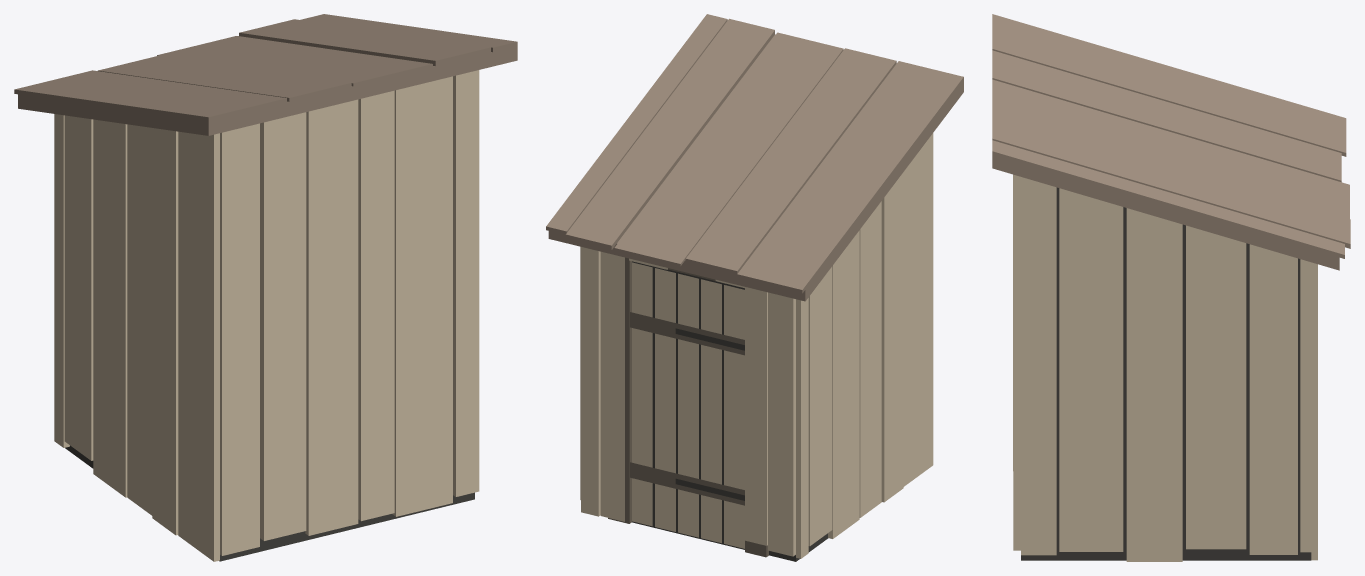
The model's file is recon_1835_blk_south_water_franklin_a3_07__inferred_1835.glb.
3 views of the same model, side by side, from view 1: azimuth 30°, elevation 25°; view 2: azimuth 150°, elevation 25°; view 3: azimuth 270°, elevation 25° (orthographic). The views are drawn at different scales.
Parts seen in each view (by area): view 1: recon_1835_blk_south_water_franklin_a3_07__inferred_1835; view 2: recon_1835_blk_south_water_franklin_a3_07__inferred_1835; view 3: recon_1835_blk_south_water_franklin_a3_07__inferred_1835.
Boxes of the visible parts, x1,y1,x2,y2 form: recon_1835_blk_south_water_franklin_a3_07__inferred_1835: (14,14,517,561); recon_1835_blk_south_water_franklin_a3_07__inferred_1835: (546,14,963,561); recon_1835_blk_south_water_franklin_a3_07__inferred_1835: (992,14,1350,561).
Size of the model in its own units: 1.91 by 2.74 by 2.11.
